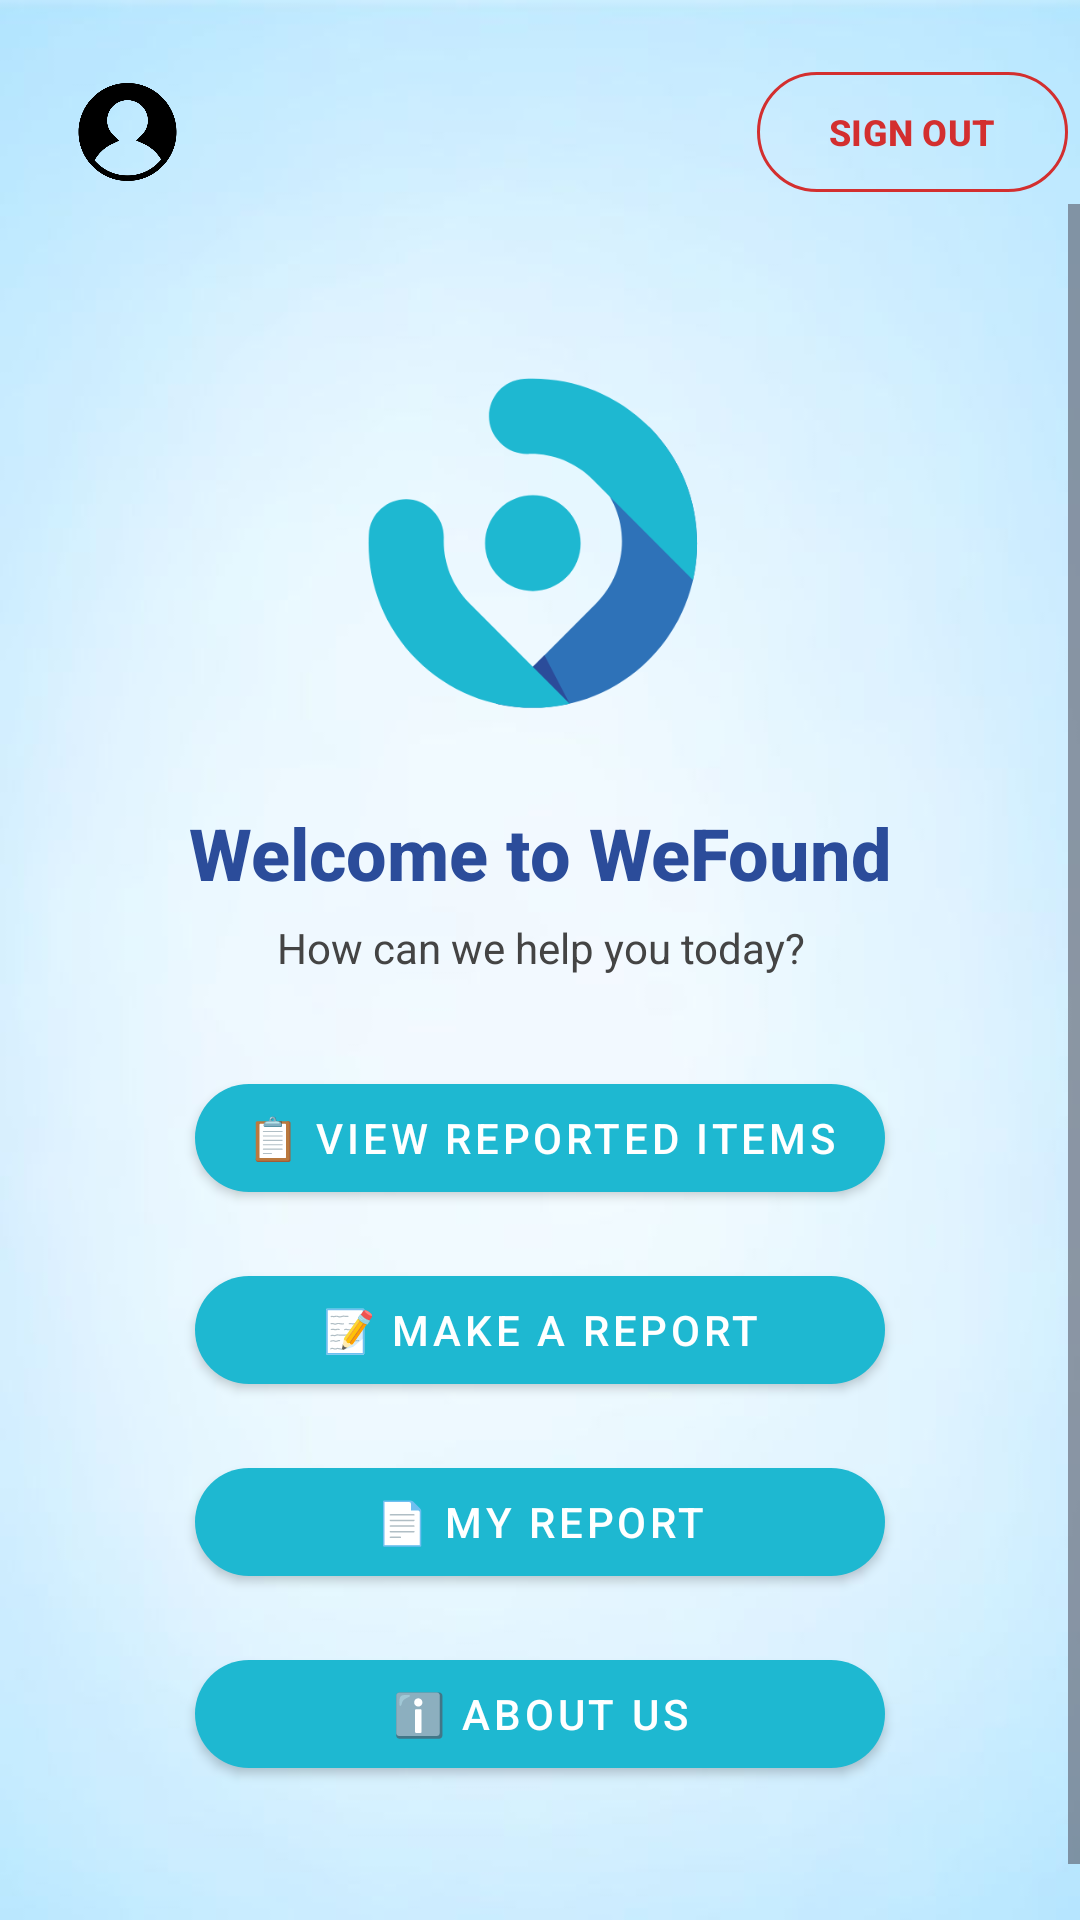

Where to tap for icons on this 1080 × 1920 app screen, as point (x, y):
Profile: point (127, 132)
